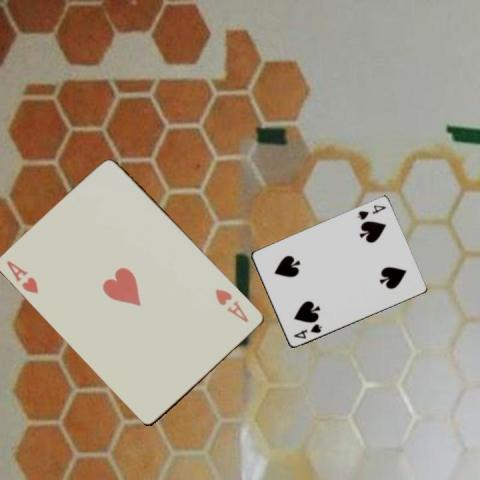4s: (291, 321, 323, 341), (354, 202, 387, 221)
Ah: (212, 285, 250, 324), (3, 257, 41, 295)
